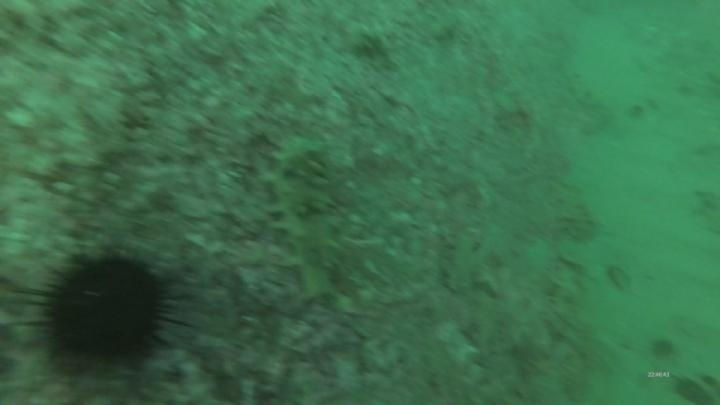echinus: (28, 243, 185, 381), (647, 334, 679, 363)
holothurian: (261, 134, 349, 303)
